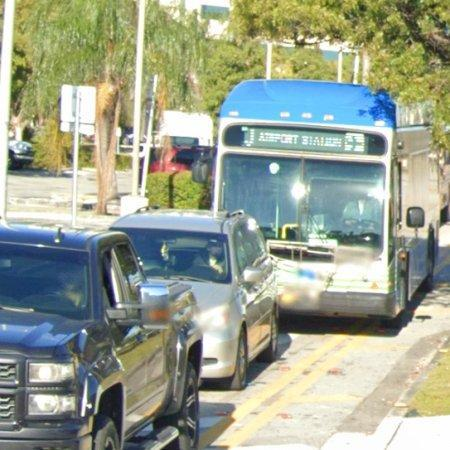buses: (213, 80, 439, 318)
